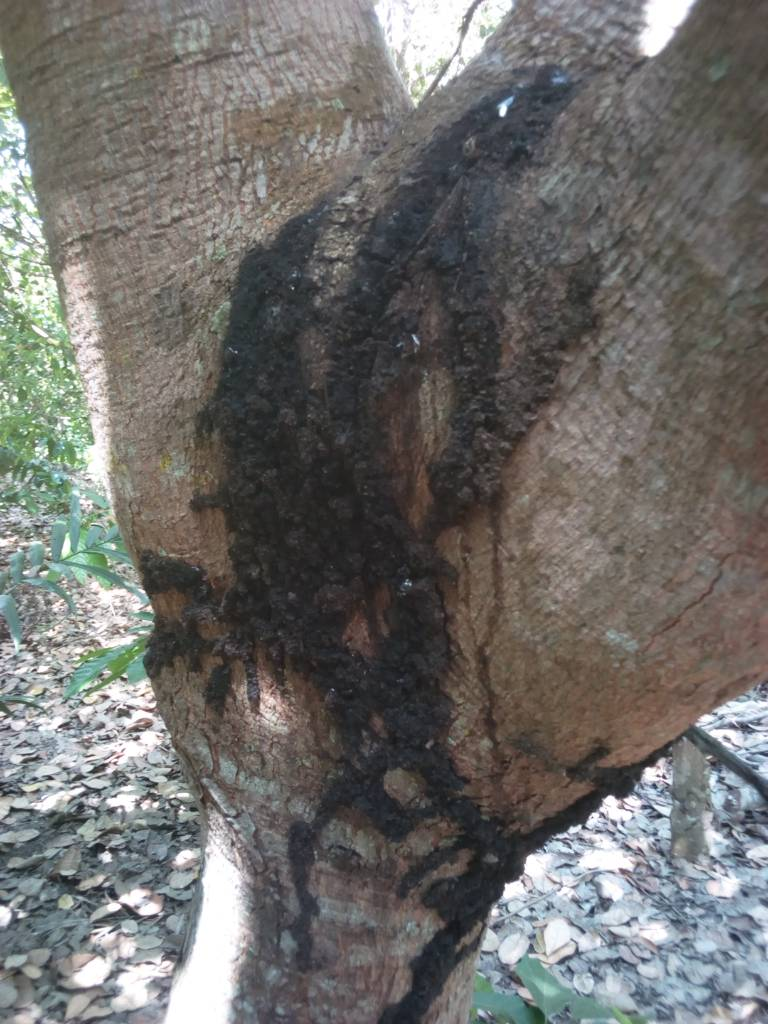Termites: (222, 233, 491, 794), (405, 833, 502, 1022)
